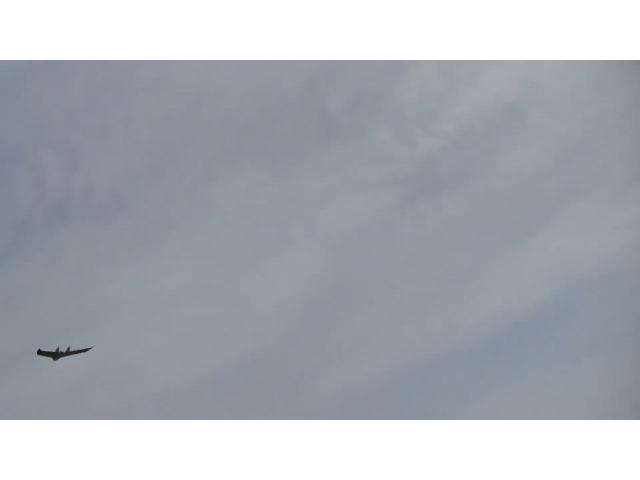Anti-Drone: (38, 346, 92, 362)
